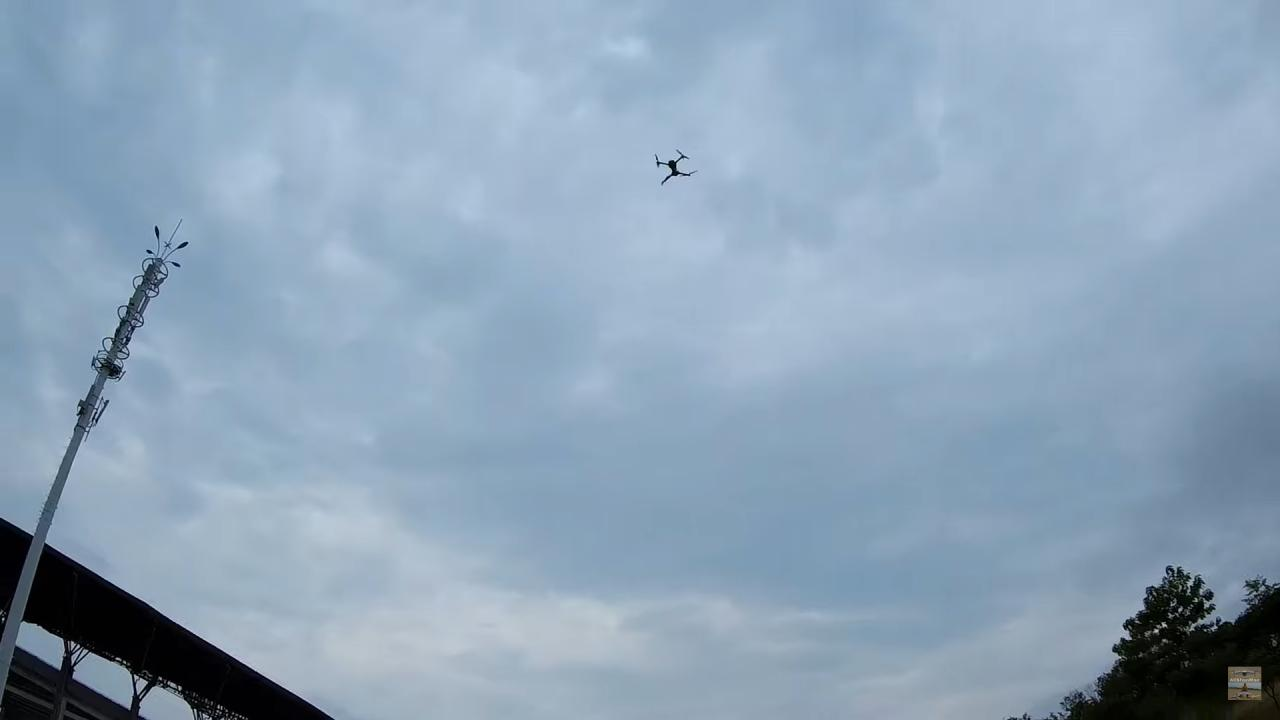Drone: (641, 140, 707, 197)
